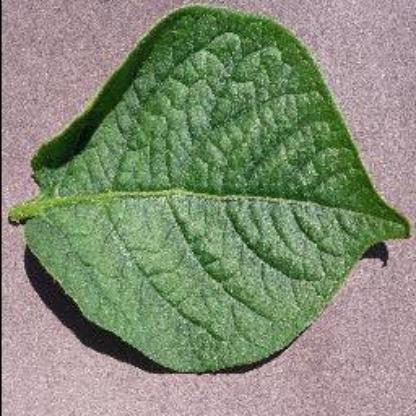Healthy-plant: (0, 5, 416, 379)
